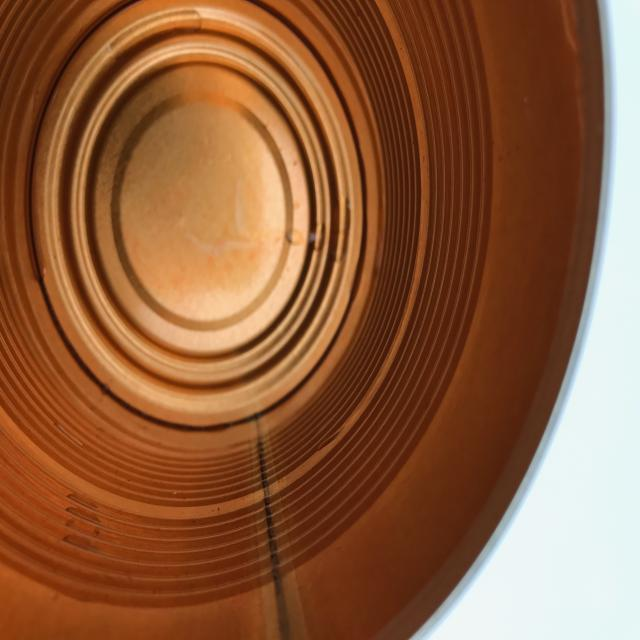metal: (1, 1, 617, 640)
